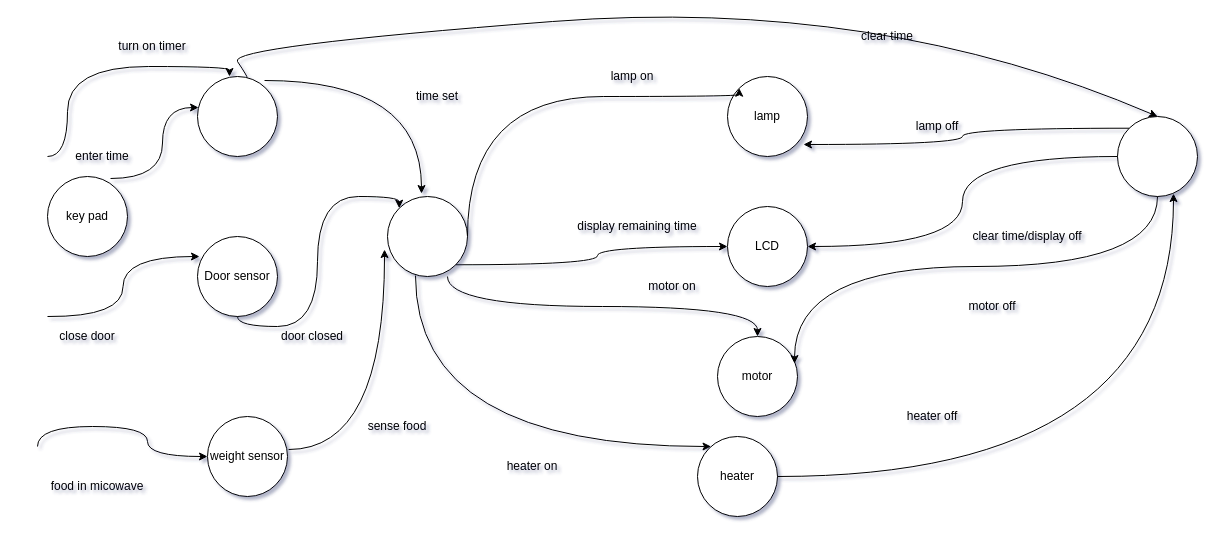
The diagram is 1221 pixels wide and 541 high, and some of its shapes have lost their labels. The shapes that lost their labels are listed below. From the top down, each one's box as (x1, y1, x2, y2) in pixels, then its label:
(196, 76, 278, 156): timer
(1116, 116, 1198, 196): cancel button
(386, 196, 468, 276): start button
